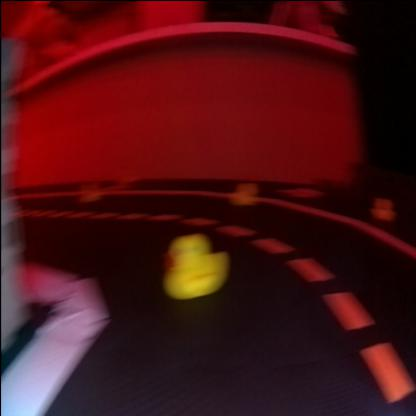Duckie: (168, 230, 230, 294), (232, 180, 255, 206), (372, 198, 394, 222)
